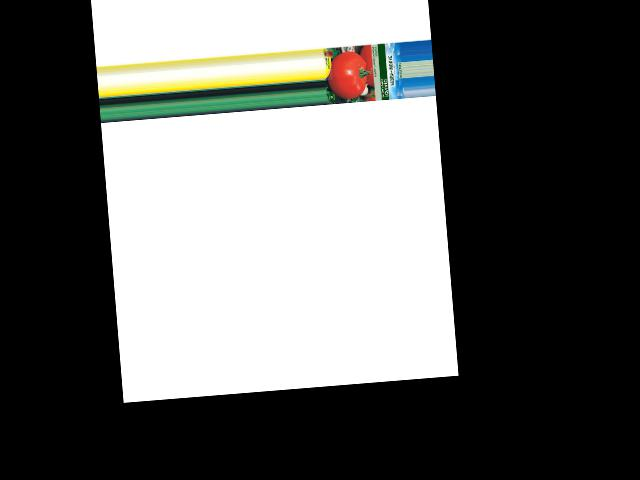tomato: (325, 50, 368, 100)
